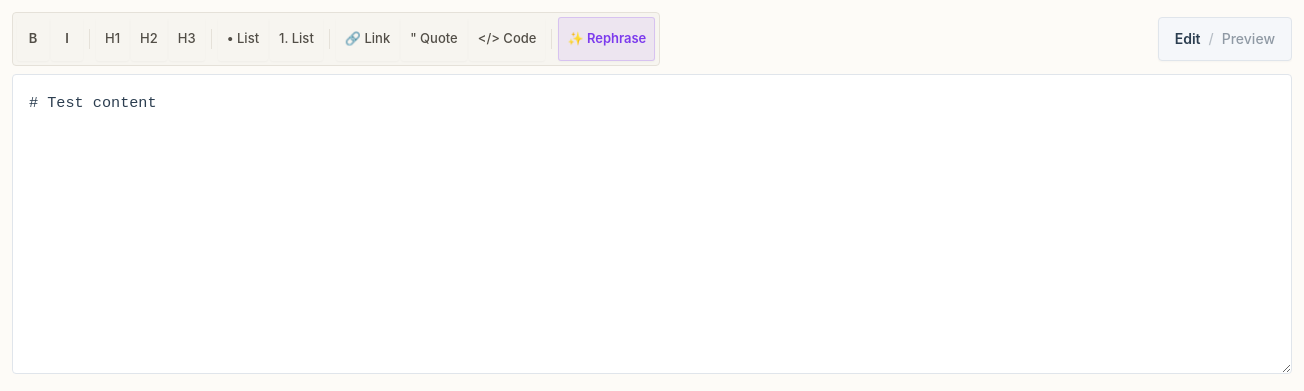
Test case: MarkdownEditor.vue › displays preview in preview mode
This screenshot has width=1304, height=391.
Find and click toggle button
Click the button with test id "mode-toggle": (1225, 39) [1158, 17, 1292, 61]
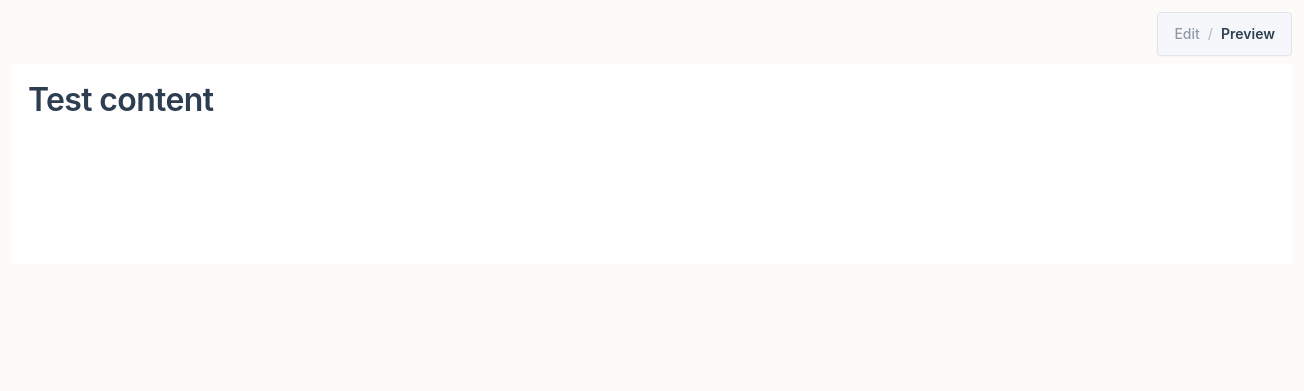
expect the element with test id "markdown-preview" is shown: met, box [12, 64, 1292, 264]
